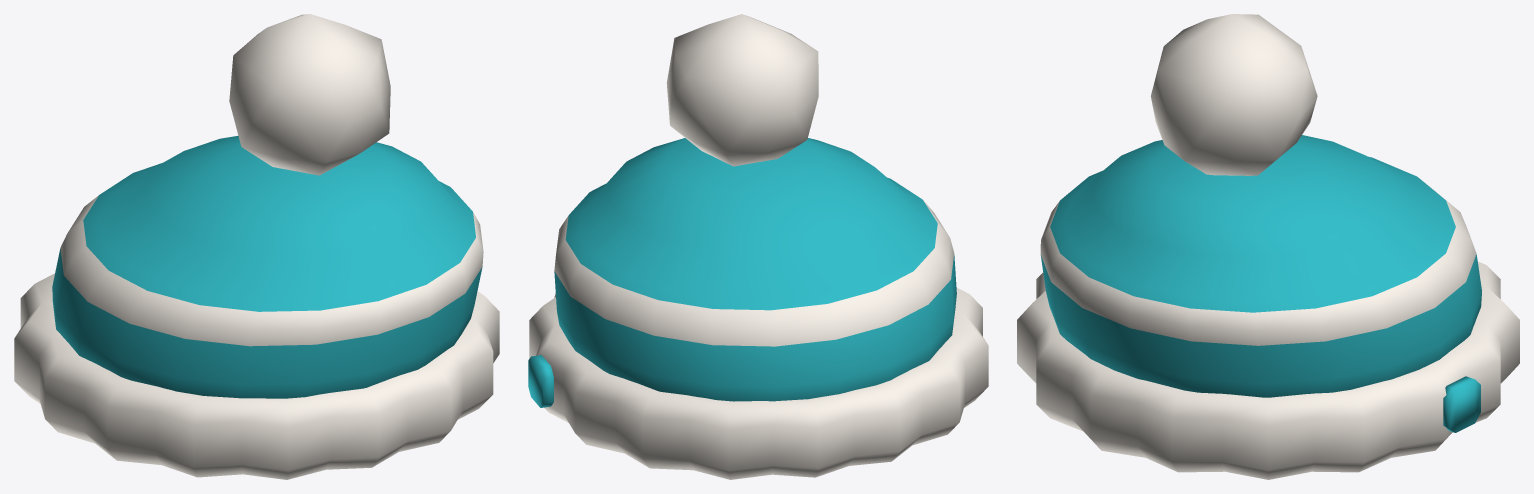
File: chapeau_bonnet.fbx
The picture shows the model from 3 angles, left to right: view 1: azimuth 30°, elevation 25°; view 2: azimuth 150°, elevation 25°; view 3: azimuth 270°, elevation 25°; orthographic projection. The views are drawn at different scales.
Parts seen in each view (by area): view 1: Bonnet, Anim_Pompon; view 2: Bonnet, Anim_Pompon; view 3: Bonnet, Anim_Pompon.
Boxes of the visible parts, <box> form: Bonnet: <box>14,136,499,479</box>; Anim_Pompon: <box>229,14,390,175</box>; Bonnet: <box>528,138,988,479</box>; Anim_Pompon: <box>666,14,818,166</box>; Bonnet: <box>1017,135,1519,479</box>; Anim_Pompon: <box>1151,14,1317,175</box>.
Size of the model in its own units: 0.83 by 0.6996 by 0.83.
